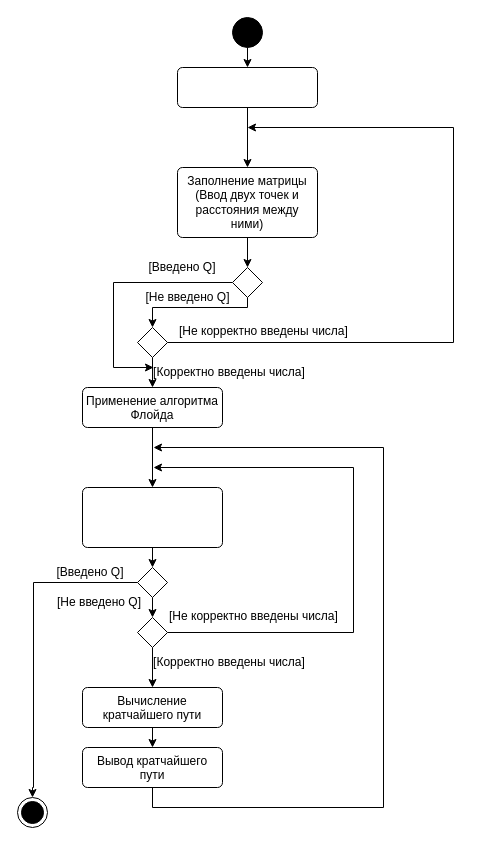
Image size: 479x845. Some labels were removed from this diagram. Each missing label, with the centre of its shape:
"Ввод двух точек для поиска кратчайшего пути между ними" belongs at (x=152, y=517).
"Запрос количества точек" belongs at (x=247, y=87).
